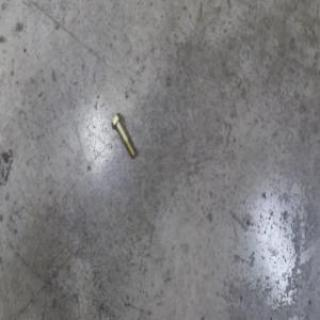Bolttrack_idkeyframe: (111, 112, 136, 159)
